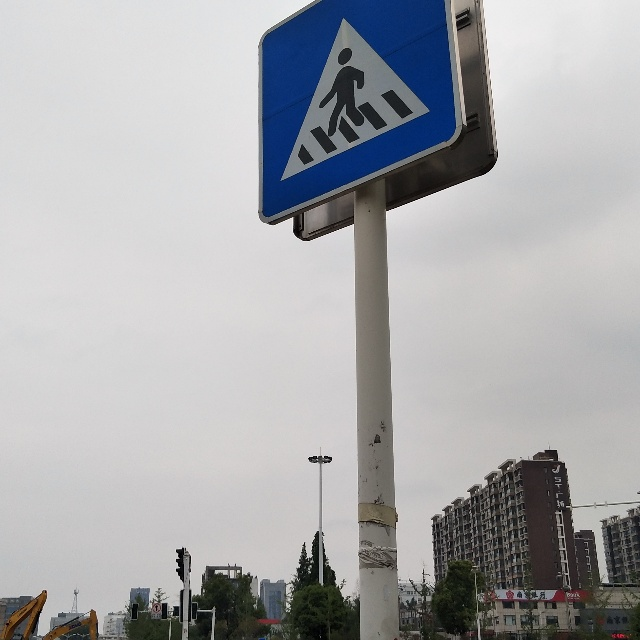crosswalk: (272, 13, 437, 175)
